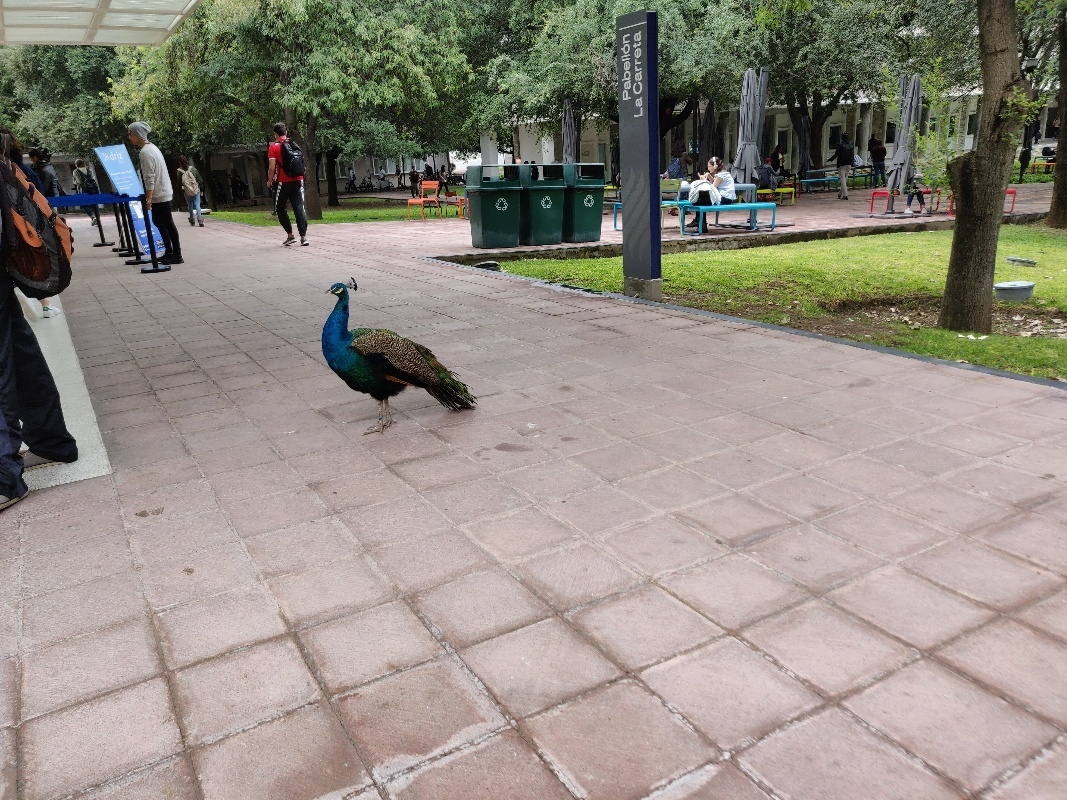pavoreal: (318, 280, 473, 434)
